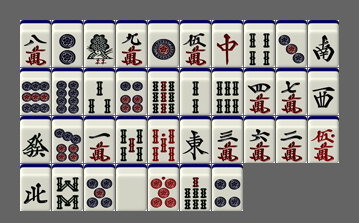0m: (308, 116, 339, 163)
0p: (148, 164, 179, 211)
0s: (148, 116, 179, 163)
1m: (84, 116, 115, 163)
1p: (148, 20, 179, 67)
1s: (84, 20, 115, 67)
1z: (180, 116, 211, 163)
2m: (276, 116, 307, 163)
2p: (52, 20, 83, 67)
2s: (180, 68, 211, 115)
2z: (308, 20, 339, 67)
3m: (212, 116, 243, 163)
3p: (276, 20, 307, 67)
3s: (84, 68, 115, 115)
3z: (308, 68, 339, 115)
4m: (244, 68, 275, 115)
4p: (212, 164, 243, 211)
4s: (244, 20, 275, 67)
4z: (20, 164, 51, 211)
5m: (180, 20, 211, 67)
5p: (84, 164, 115, 211)
5s: (116, 116, 147, 163)
5z: (116, 164, 147, 211)
6m: (244, 116, 275, 163)
6p: (116, 68, 147, 115)
6s: (212, 68, 243, 115)
6z: (20, 116, 51, 163)
7m: (276, 68, 307, 115)
7p: (52, 116, 83, 163)
7s: (180, 164, 211, 211)
7z: (212, 20, 243, 67)
8m: (20, 20, 51, 67)
8p: (52, 68, 83, 115)
8s: (52, 164, 83, 211)
9m: (116, 20, 147, 67)
9p: (20, 68, 51, 115)
9s: (148, 68, 179, 115)
